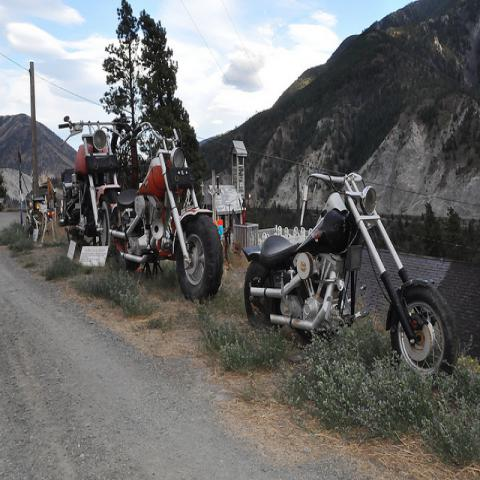motorcycle: (242, 172, 460, 375), (109, 121, 224, 302), (59, 118, 125, 258)
